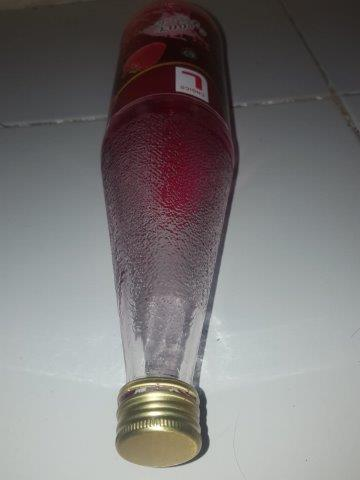botolkaca: (99, 1, 237, 467)
